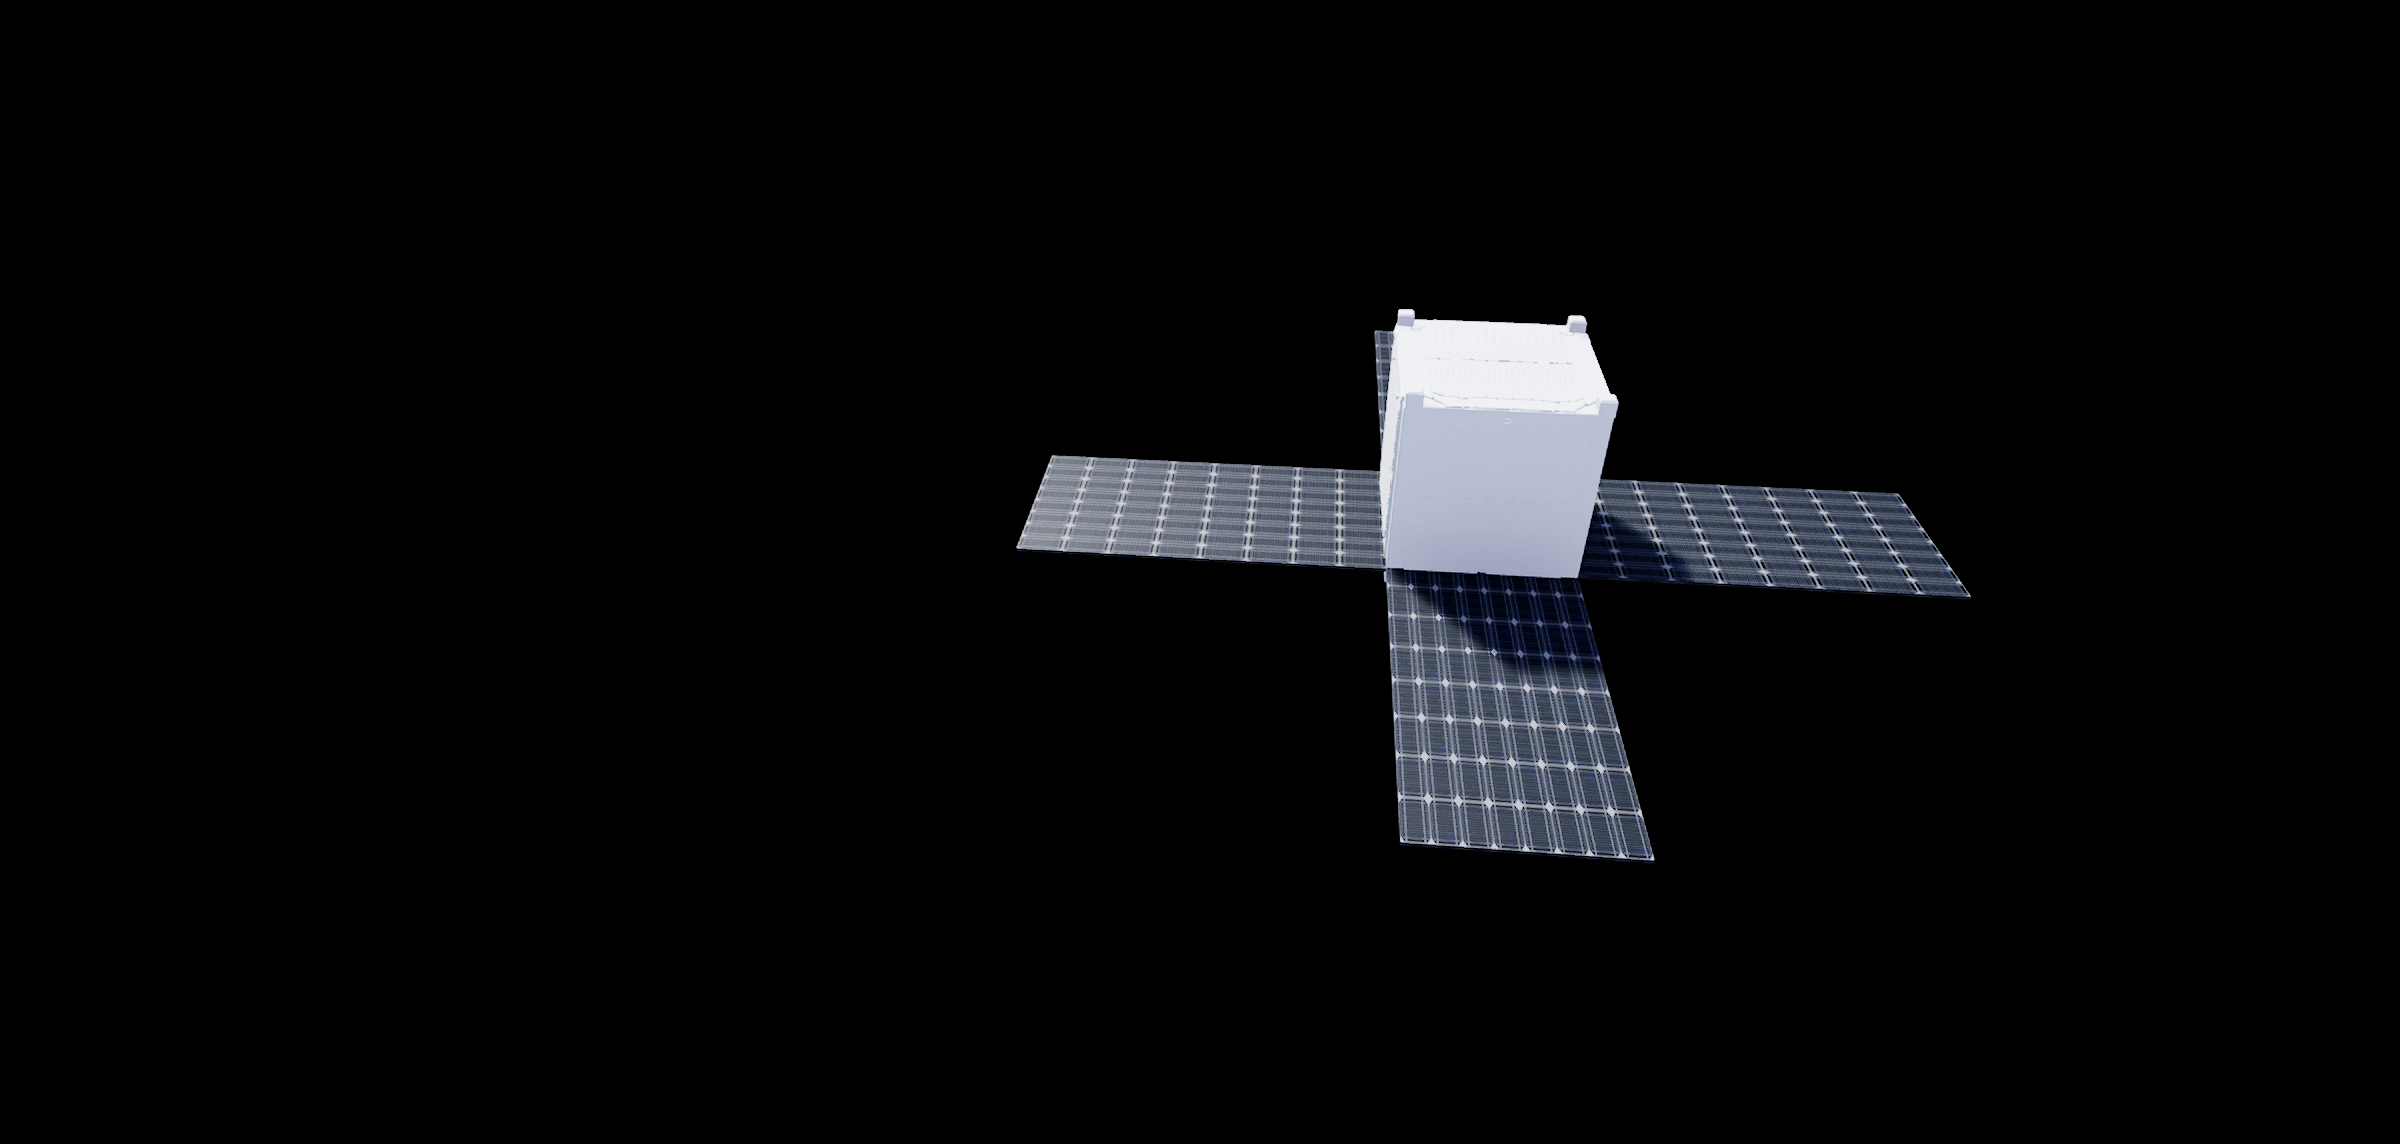satellite: (1003, 276, 1997, 891)
